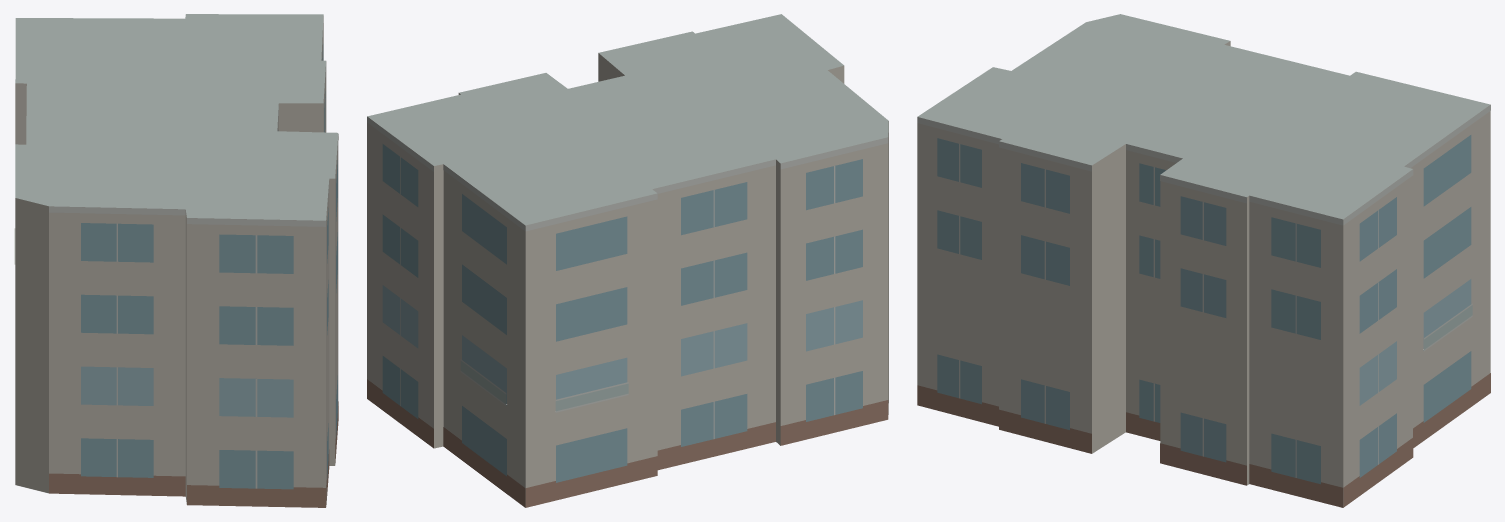
The model's file is survey-upis-32683072.glb.
The picture shows the model from 3 angles, left to right: view 1: azimuth 30°, elevation 25°; view 2: azimuth 150°, elevation 25°; view 3: azimuth 270°, elevation 25°; orthographic projection. The views are drawn at different scales.
Parts seen in each view (by area): view 1: survey-upis-32683072.tmp; view 2: survey-upis-32683072.tmp; view 3: survey-upis-32683072.tmp.
Boxes of the visible parts, box(x1,y1,x2,y2) form: survey-upis-32683072.tmp: box(14, 14, 338, 507); survey-upis-32683072.tmp: box(367, 14, 888, 507); survey-upis-32683072.tmp: box(917, 14, 1490, 507).
Size of the model in its own units: 17.42 by 11.4 by 20.55.
